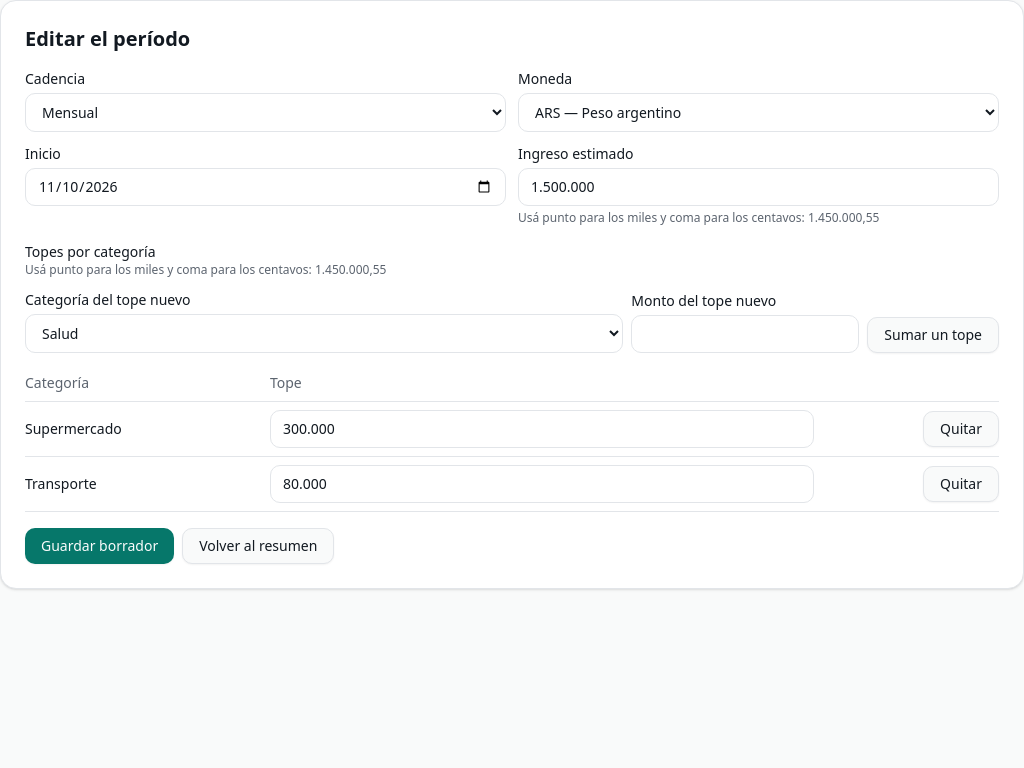
Test: case C1-30: changing a draft replaces its content
Replace the text in the field labelled "Ingreso estimado" with "1600000": {"x": 758, "y": 187} [518,168,999,206]
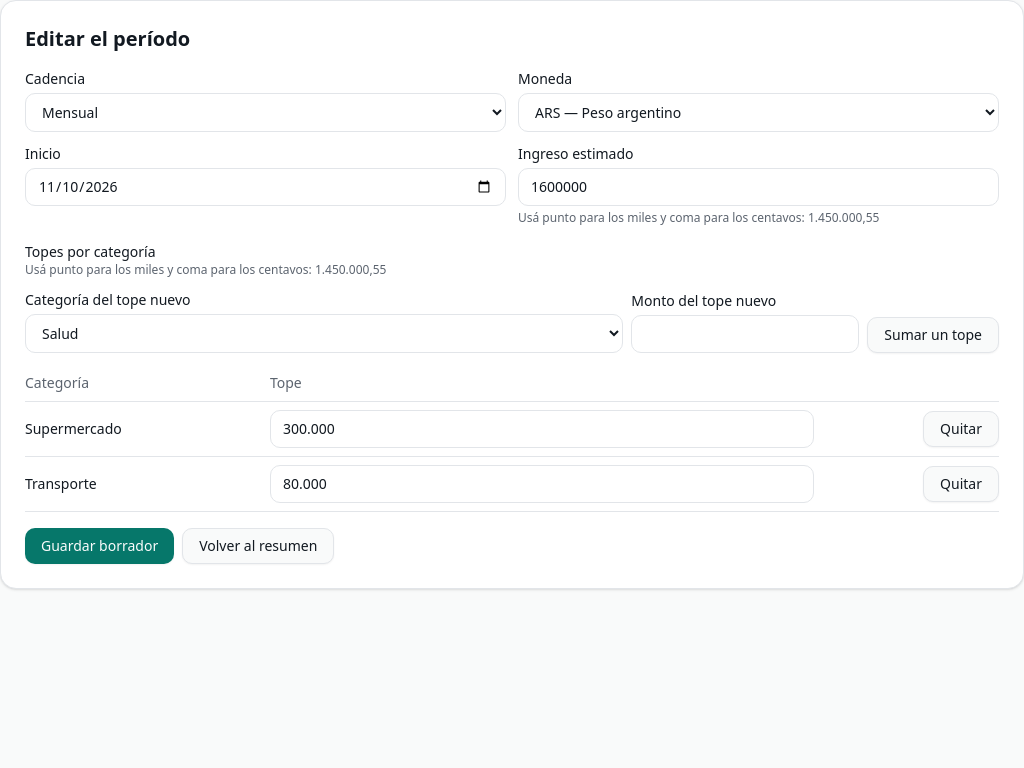
Click the button "Guardar borrador": {"x": 100, "y": 546} [25,528,174,564]
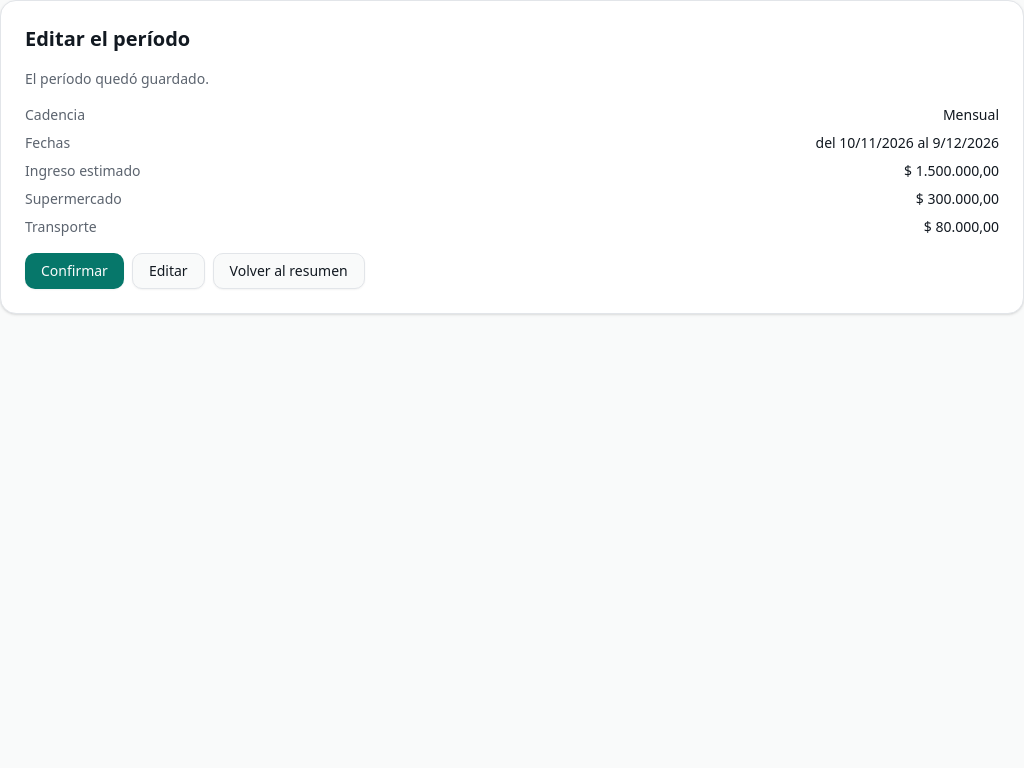
Result: the text "El período quedó guardado." is shown at [25,69,209,88]
